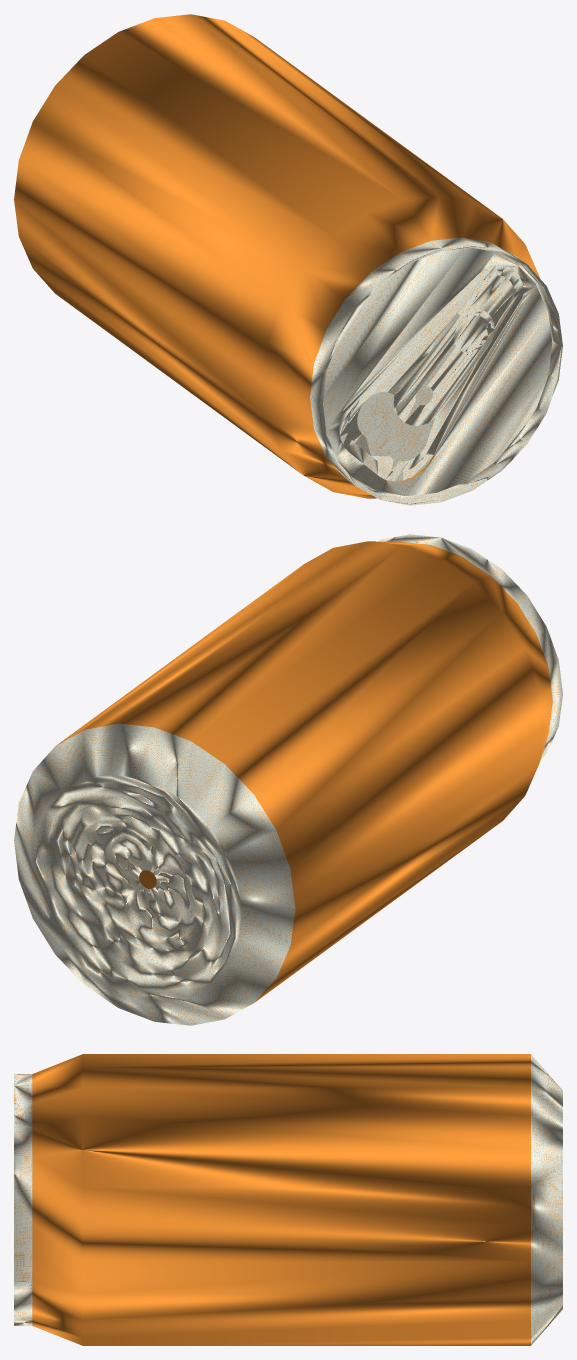
File: model_align.obj
The picture shows the model from 3 angles, top to bottom: view 1: azimuth 30°, elevation 25°; view 2: azimuth 150°, elevation 25°; view 3: azimuth 270°, elevation 25°; orthographic projection. The views are drawn at different scales.
Size of the model in its own units: 0.0559 by 0.0559 by 0.1047.
